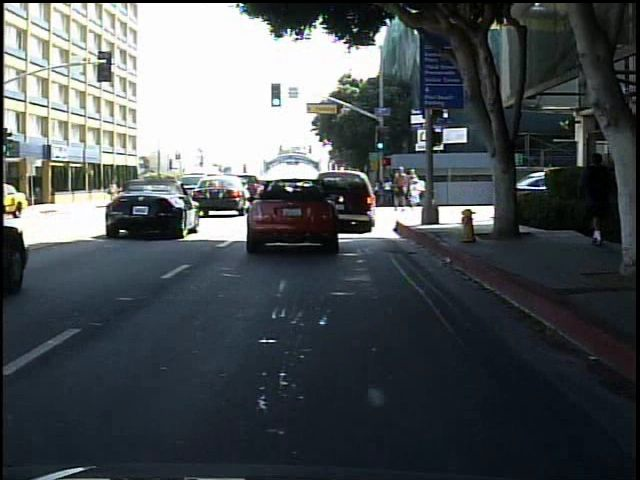person: (576, 148, 615, 248), (390, 165, 410, 213), (407, 176, 425, 210), (102, 178, 121, 205)
